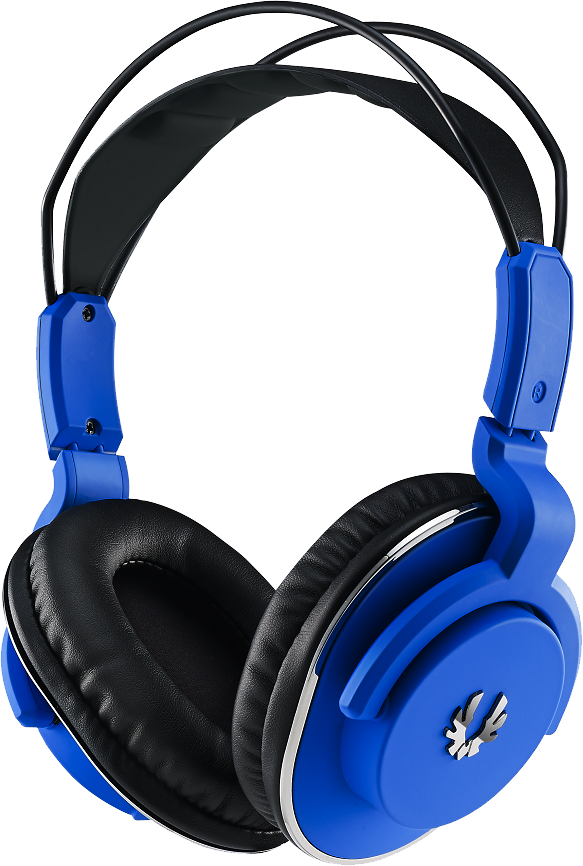headphone: (11, 17, 583, 851)
